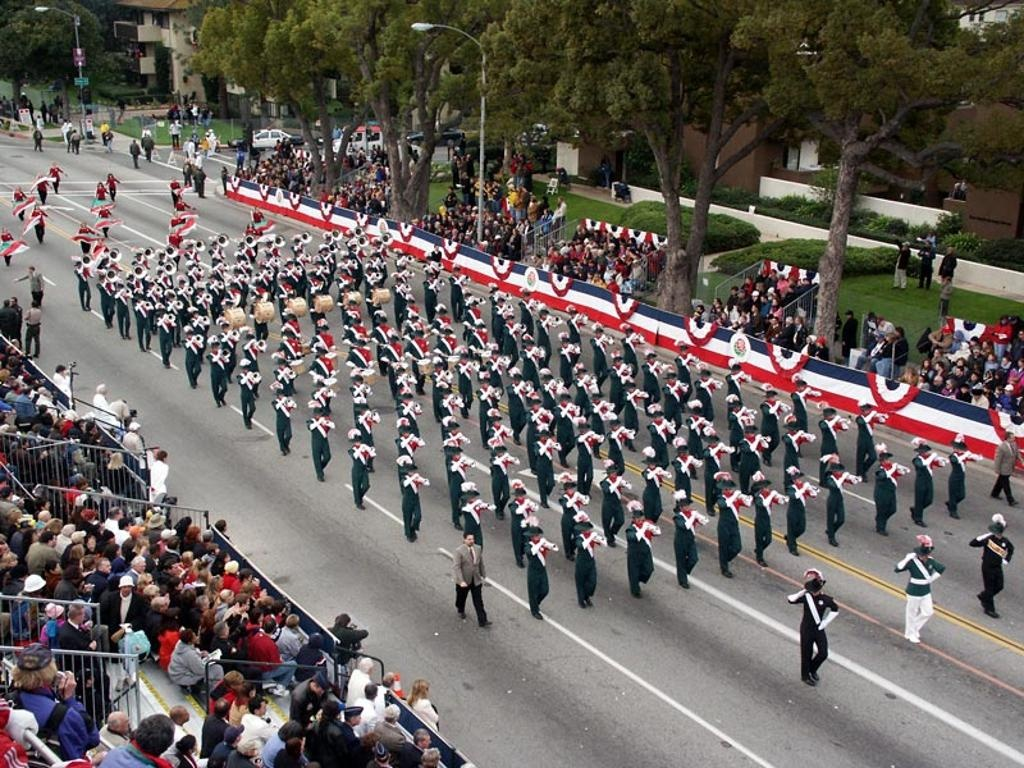human_face: (114, 715, 128, 731), (72, 608, 84, 622), (177, 708, 189, 720), (98, 560, 110, 572), (134, 560, 146, 572), (256, 700, 266, 714), (234, 674, 242, 690), (635, 514, 645, 526), (350, 712, 360, 724), (314, 684, 326, 694), (121, 583, 131, 595), (422, 734, 430, 748), (188, 737, 196, 751), (220, 622, 228, 636), (314, 710, 324, 720), (50, 563, 60, 573), (6, 556, 16, 566), (86, 674, 94, 686), (2, 542, 8, 556), (918, 550, 926, 560), (247, 689, 255, 699), (188, 632, 196, 642), (49, 535, 57, 545), (32, 584, 42, 592), (87, 536, 95, 546), (156, 600, 166, 608), (242, 598, 250, 608), (170, 564, 178, 574), (42, 499, 50, 509), (54, 522, 62, 532), (226, 590, 232, 602), (216, 576, 222, 588), (678, 448, 688, 455), (811, 586, 819, 594), (144, 576, 152, 584), (87, 516, 95, 524), (4, 492, 12, 500), (724, 486, 732, 494), (882, 456, 890, 464), (466, 494, 474, 502), (516, 494, 524, 502), (608, 470, 616, 478), (560, 397, 568, 405), (466, 535, 472, 545), (994, 528, 1000, 538), (202, 597, 208, 607), (252, 576, 258, 586), (648, 459, 654, 469), (710, 439, 718, 446), (533, 533, 539, 541), (1008, 434, 1014, 442), (108, 537, 114, 545), (204, 572, 210, 580), (256, 612, 262, 620), (260, 589, 266, 597), (244, 574, 252, 580), (224, 554, 230, 562), (212, 546, 220, 552), (97, 522, 105, 528), (196, 532, 202, 540), (134, 530, 142, 536), (80, 482, 88, 488), (747, 432, 755, 438), (970, 372, 976, 380), (972, 348, 980, 354), (876, 334, 882, 342), (1018, 330, 1024, 338), (452, 452, 460, 458), (614, 358, 622, 364), (481, 380, 487, 388), (442, 391, 450, 397), (786, 316, 792, 324), (942, 330, 950, 336), (682, 502, 688, 509), (566, 487, 572, 494), (826, 412, 832, 419), (864, 406, 870, 413), (1004, 388, 1010, 395), (797, 382, 803, 389), (654, 415, 660, 422), (583, 527, 589, 533), (114, 548, 120, 554), (124, 522, 130, 528), (0, 480, 6, 486), (45, 513, 51, 519), (154, 548, 160, 554), (761, 484, 767, 490), (794, 476, 800, 482), (954, 445, 960, 451), (973, 392, 979, 398), (960, 386, 966, 392), (932, 378, 938, 384), (982, 385, 988, 391), (954, 368, 960, 374), (956, 360, 962, 366), (932, 350, 938, 356), (1016, 360, 1022, 366), (877, 319, 883, 325), (406, 468, 412, 474), (496, 449, 502, 455), (540, 433, 546, 439), (353, 439, 359, 445), (402, 430, 408, 436), (450, 427, 456, 433), (533, 403, 539, 409), (768, 395, 774, 401), (668, 376, 674, 382), (702, 374, 708, 380), (514, 378, 520, 384), (404, 397, 410, 403), (806, 336, 812, 342), (712, 298, 718, 304), (737, 292, 743, 298), (730, 288, 736, 294), (114, 511, 118, 519), (1002, 356, 1006, 364), (895, 328, 899, 336), (794, 316, 798, 324), (732, 404, 738, 409), (627, 386, 633, 391), (18, 502, 22, 508), (14, 498, 18, 504), (834, 468, 838, 474), (922, 450, 928, 454), (790, 426, 794, 432), (946, 382, 950, 388), (918, 376, 922, 382), (934, 364, 938, 370), (924, 360, 928, 366), (988, 354, 992, 360), (868, 318, 874, 322), (1000, 316, 1004, 322), (982, 341, 986, 347), (612, 424, 618, 428), (494, 420, 498, 426), (694, 411, 698, 417), (734, 369, 740, 373), (649, 356, 653, 362), (578, 371, 582, 377), (696, 307, 700, 313), (816, 340, 820, 346), (770, 318, 776, 322), (752, 305, 756, 311), (760, 296, 764, 302), (581, 425, 585, 430), (594, 398, 598, 403), (994, 373, 998, 377), (886, 334, 890, 338), (971, 338, 975, 342), (682, 348, 686, 352), (752, 294, 756, 298), (772, 300, 776, 304)
